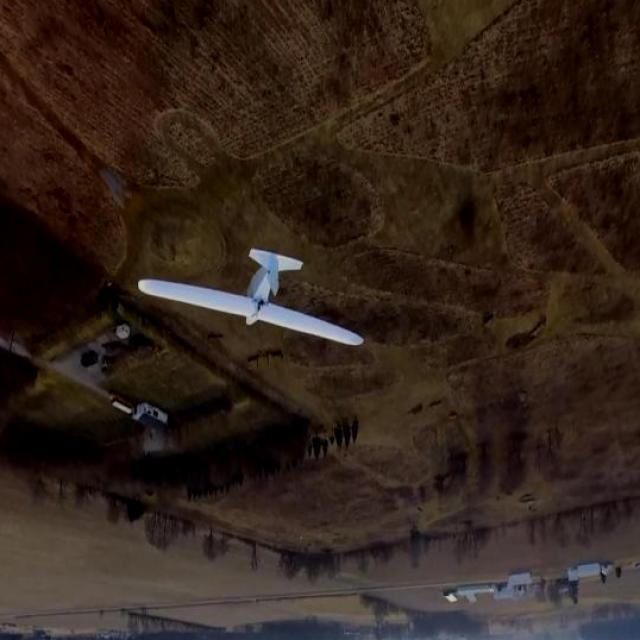plane: (136, 246, 366, 348)
